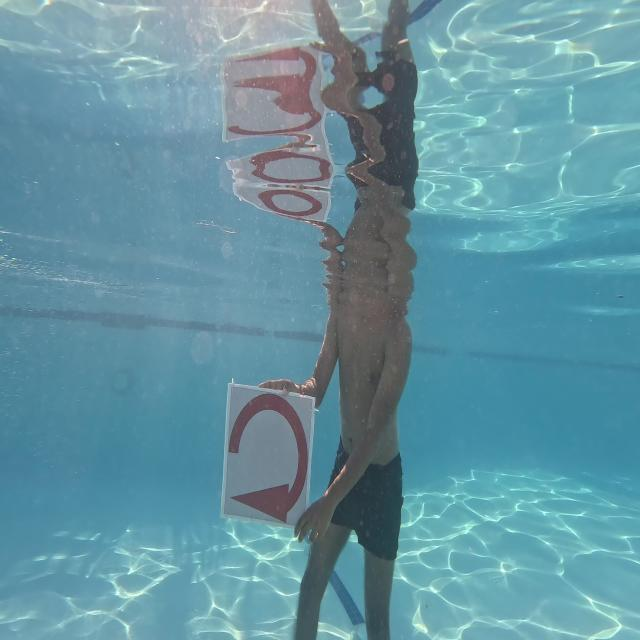red_side: (219, 369, 316, 534)
